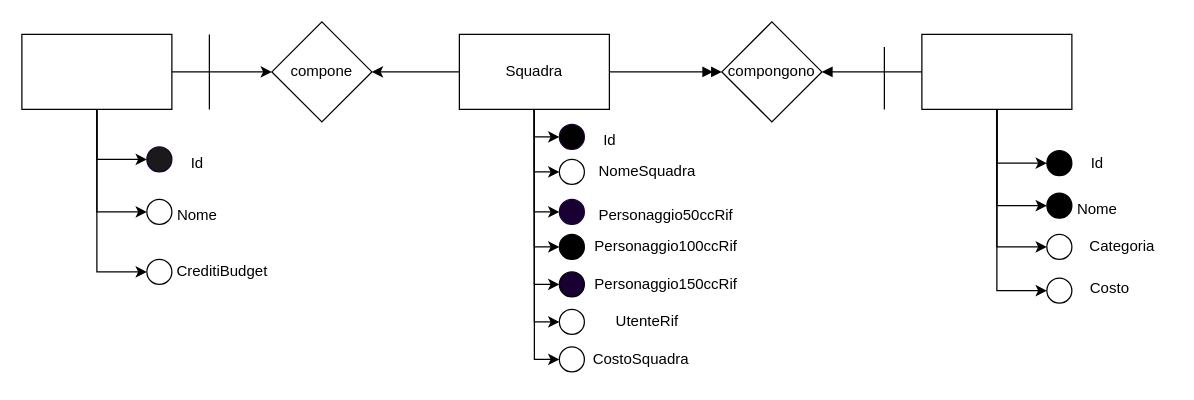
Image size: 1194x400. Some labels were removed from this diagram. Each missing label, with the centre of its shape:
"Giocatore" belongs at pixel 96 71.
"Personaggio" belongs at pixel 996 71.
